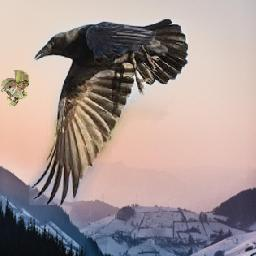Crow: (30, 19, 189, 205)
Sparrow: (1, 70, 29, 106)
